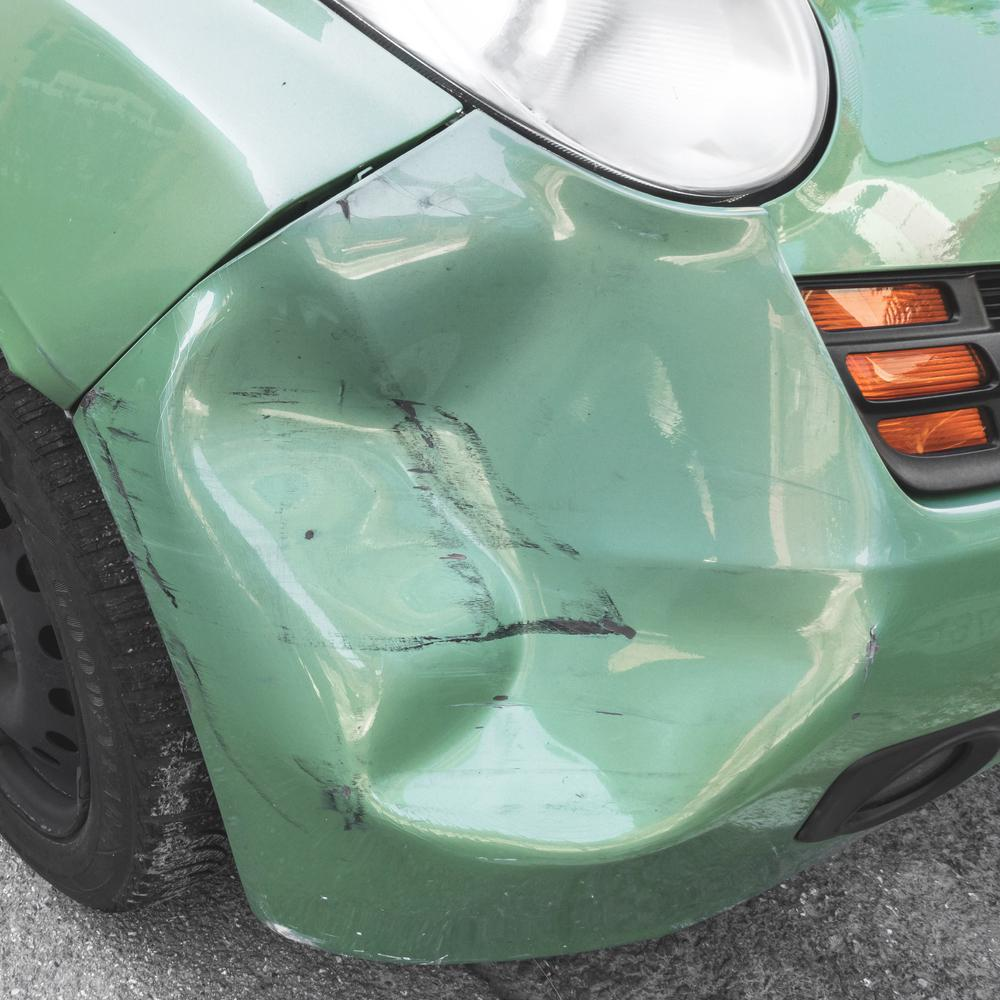dent: (174, 180, 880, 848)
scratch: (71, 379, 376, 841)
